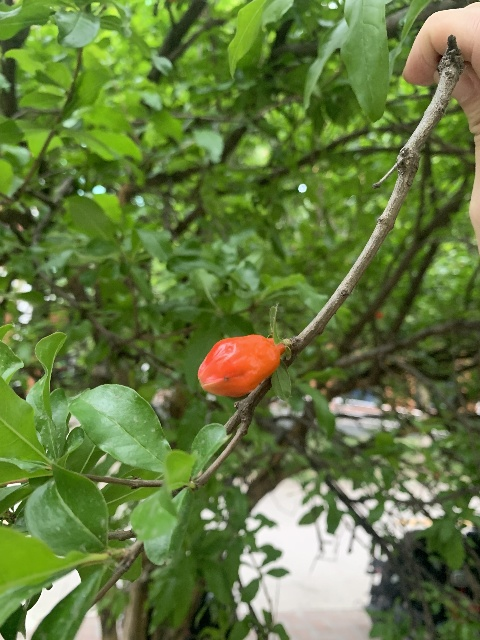bud: (197, 333, 284, 398)
